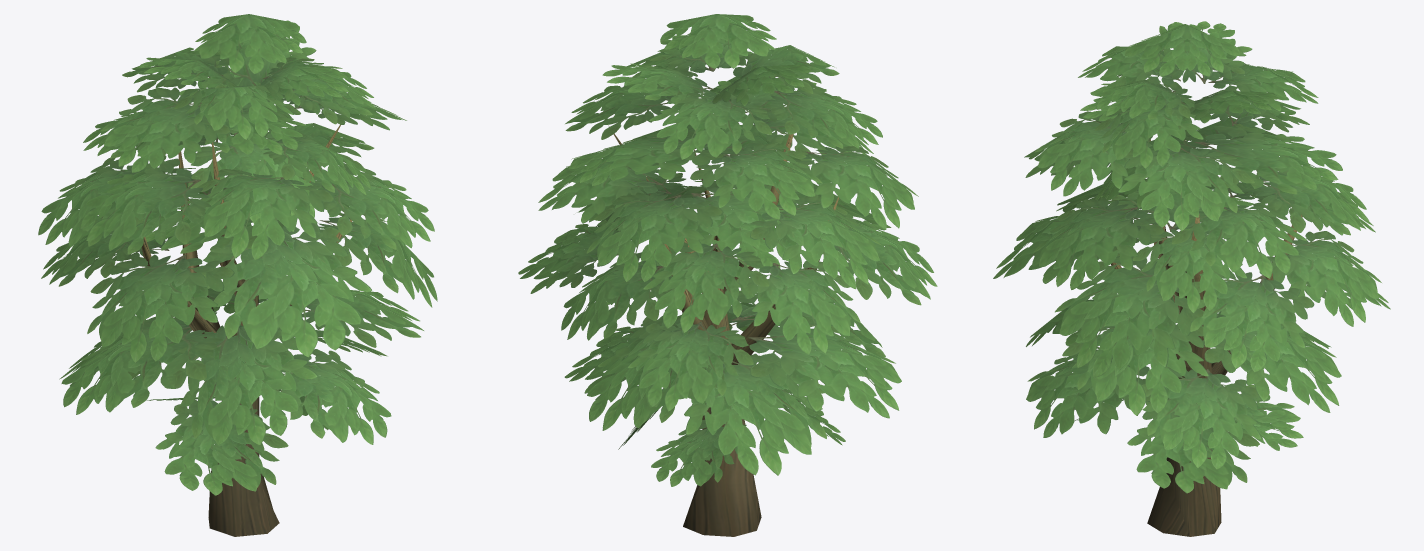
File: main_map_tree_08d.fbx
The picture shows the model from 3 angles, left to right: view 1: azimuth 30°, elevation 25°; view 2: azimuth 150°, elevation 25°; view 3: azimuth 270°, elevation 25°; orthographic projection.
Visible parts, largest first — view 1: main_map_tree_08d; view 2: main_map_tree_08d; view 3: main_map_tree_08d.
Boxes of the visible parts, box(x1,y1,x2,y2) form: main_map_tree_08d: box(38, 14, 437, 536); main_map_tree_08d: box(518, 14, 937, 536); main_map_tree_08d: box(993, 21, 1390, 536).
Bounding box in the file's own units: 193 × 241 × 190.
